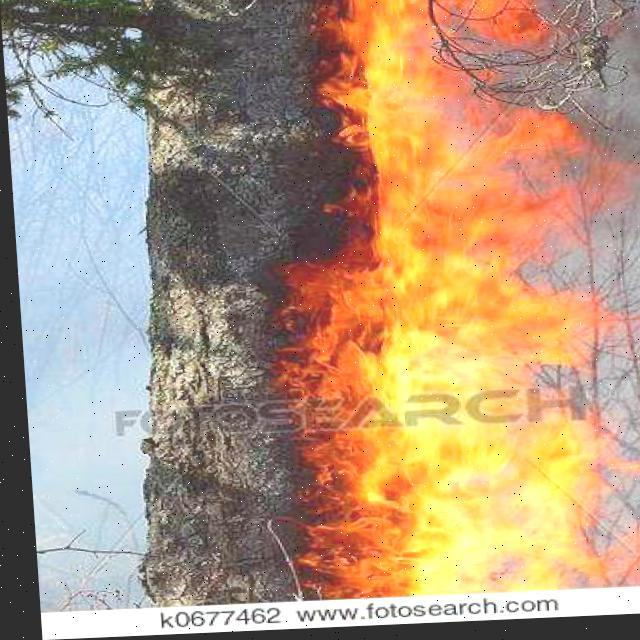Fire: (264, 0, 639, 601)
